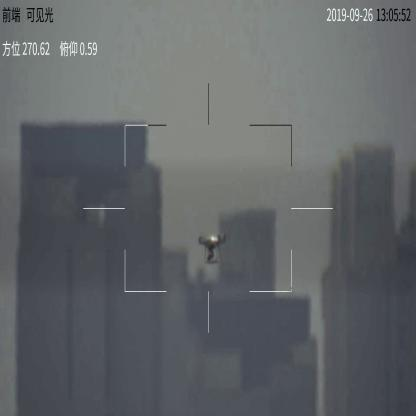uav: (193, 230, 231, 262)
